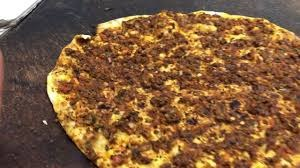lahmacun: (47, 11, 299, 167)
